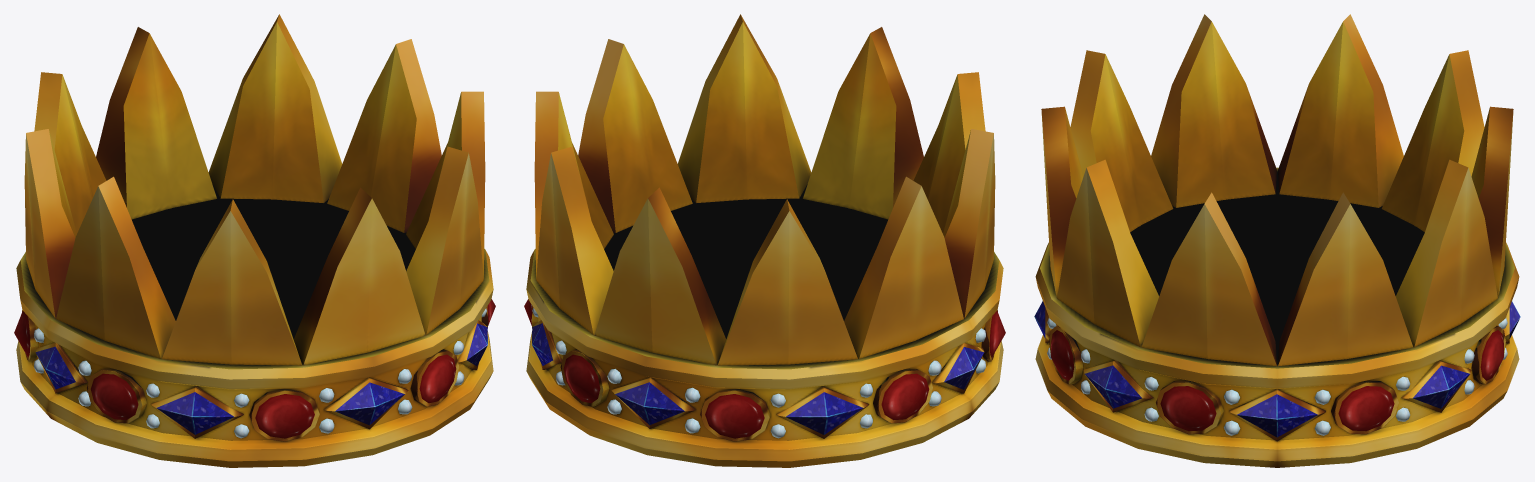
File: WrenlyPrinceCrown.obj
The picture shows the model from 3 angles, left to right: view 1: azimuth 30°, elevation 25°; view 2: azimuth 150°, elevation 25°; view 3: azimuth 270°, elevation 25°; orthographic projection.
Visible parts, largest first — view 1: Wrenlyprincecrown1; view 2: Wrenlyprincecrown1; view 3: Wrenlyprincecrown1.
Part boxes in pixels (x1,y1,x2,y2): Wrenlyprincecrown1: (14, 14, 495, 467); Wrenlyprincecrown1: (524, 14, 1005, 467); Wrenlyprincecrown1: (1034, 14, 1520, 467).
Size of the model in its own units: 1.25 by 0.7393 by 1.25.
1 material, 1 textured.
